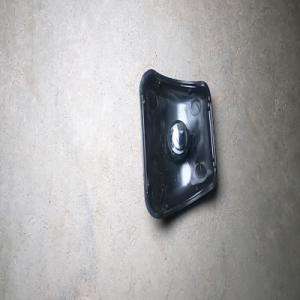LuggagePart: (138, 67, 219, 221)
